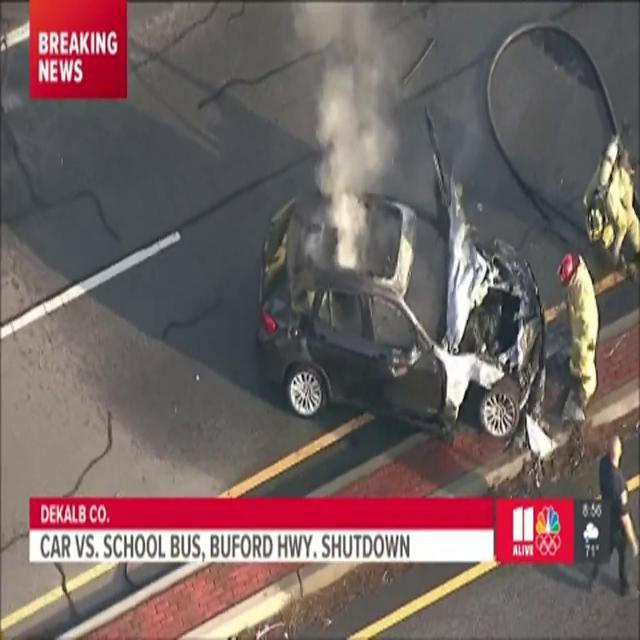Smoke: (295, 3, 424, 270)
